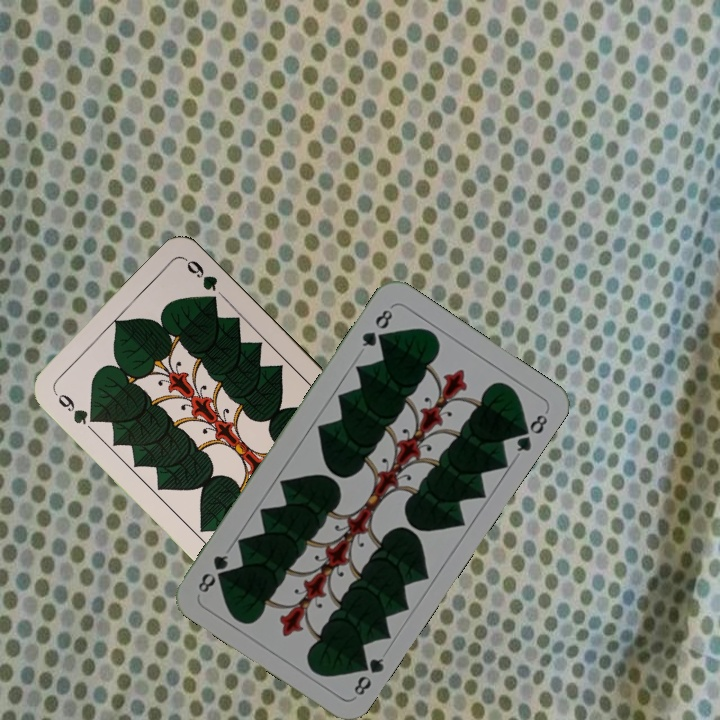G8: (357, 304, 397, 349), (350, 653, 387, 698)
G9: (50, 388, 100, 428)
